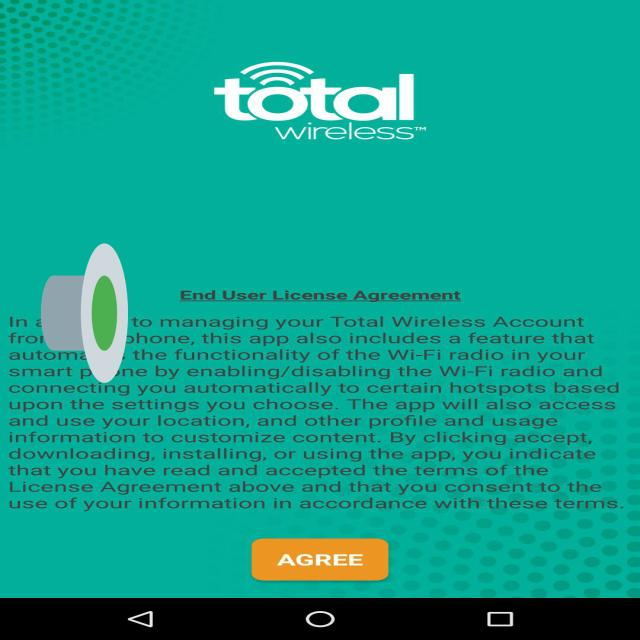social proof: (41, 184, 128, 442)
